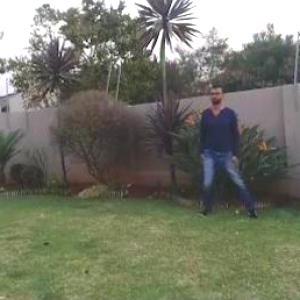follow: (198, 79, 238, 218)
